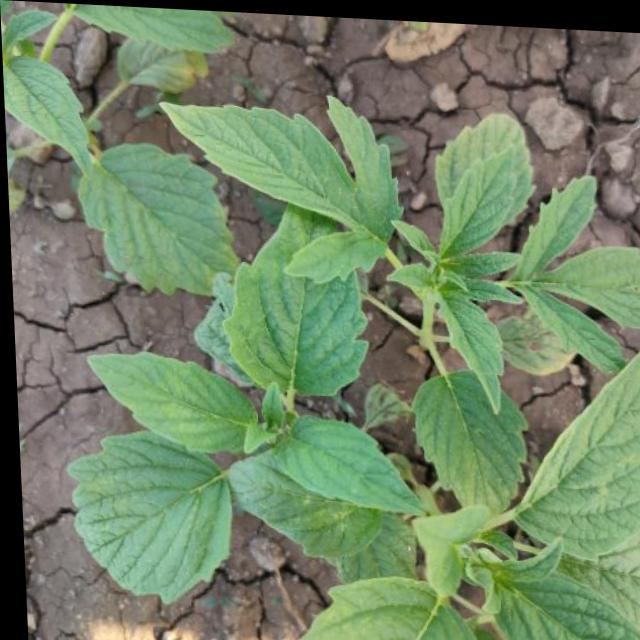crop: (69, 119, 640, 640)
